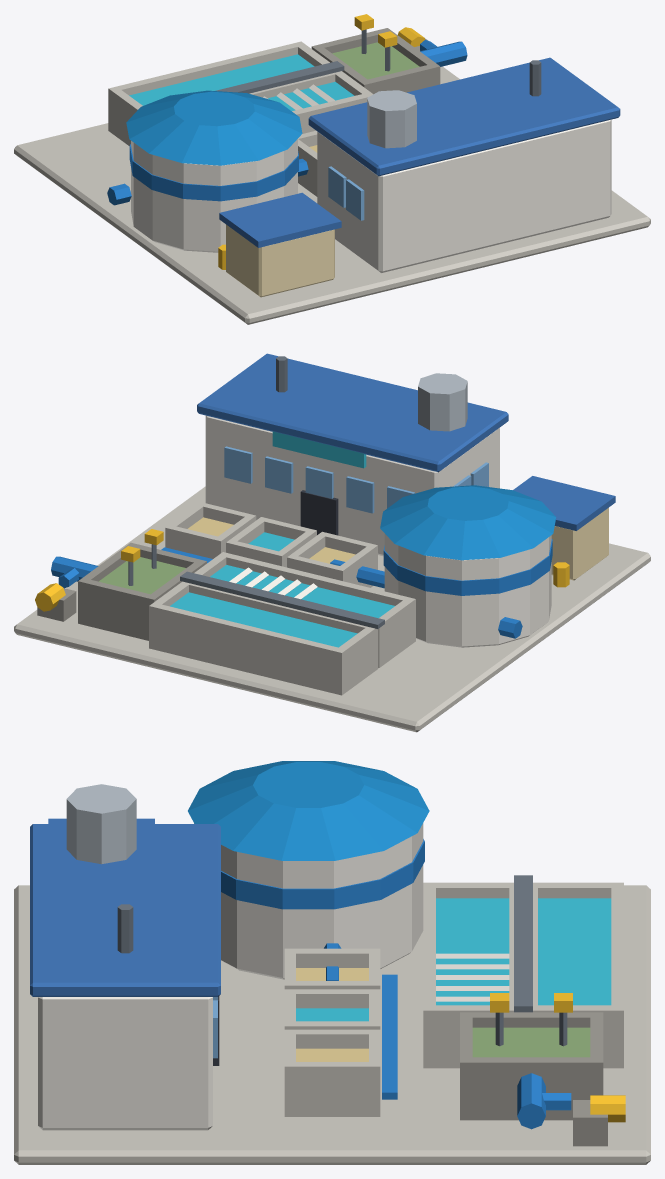
File: water_treatment_plant.glb
3 views of the same model, one above another, from view 1: azimuth 30°, elevation 25°; view 2: azimuth 150°, elevation 25°; view 3: azimuth 270°, elevation 25° (orthographic). The views are drawn at different scales.
Visible parts, largest first — view 1: corpo; view 2: corpo; view 3: corpo.
Part boxes in pixels (bbox=[...]): corpo: bbox=[14, 14, 650, 324]; corpo: bbox=[14, 353, 650, 732]; corpo: bbox=[14, 761, 650, 1164].
Size of the model in its own units: 4 by 1.51 by 4.
